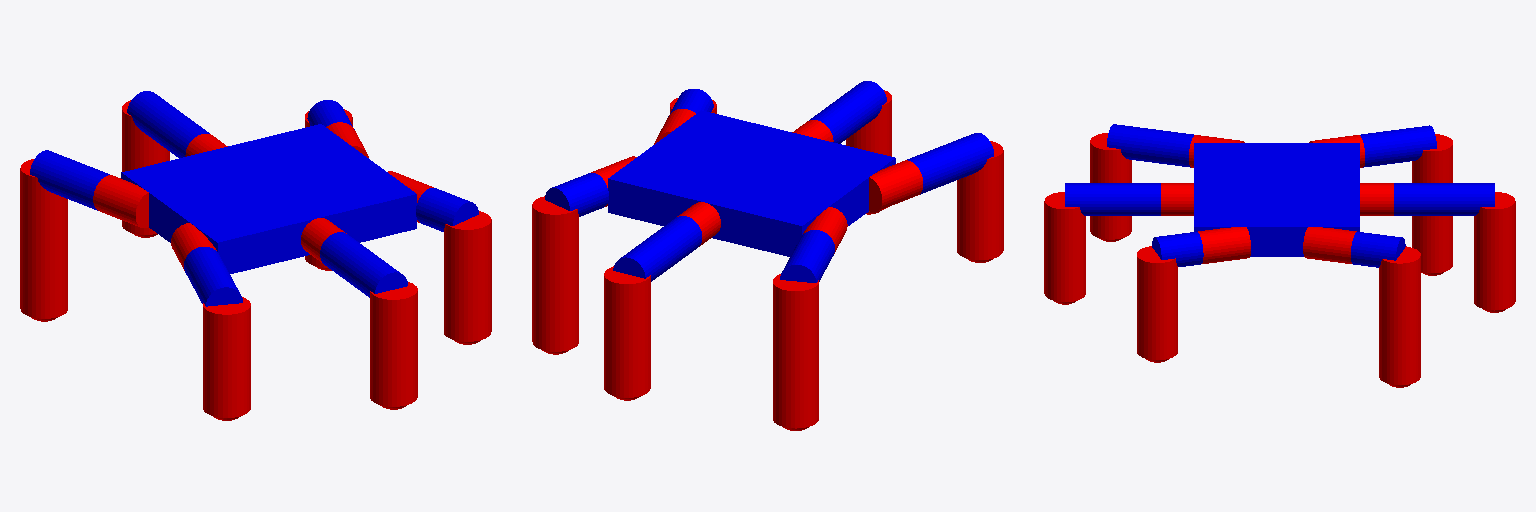
--- Render facts (derived) ---
The picture shows the robot from 3 angles, left to right: view 1: azimuth 30°, elevation 25°; view 2: azimuth 150°, elevation 25°; view 3: azimuth 270°, elevation 25°; orthographic projection.
Robot: pexod — 19 links, 18 joints (18 revolute); root link base_link; default pose: every joint at zero.
Links seen in each view (by area): view 1: base_link, leg_0_3, leg_3_3, leg_4_3, leg_5_3, leg_4_2, leg_1_2, leg_0_2, leg_5_2, leg_0_1, leg_1_3, leg_3_2 (+5 smaller); view 2: base_link, leg_2_3, leg_0_3, leg_1_3, leg_5_3, leg_1_2, leg_5_2, leg_4_2, leg_5_1, leg_0_2, leg_2_2, leg_4_3 (+3 smaller); view 3: base_link, leg_2_3, leg_1_3, leg_3_3, leg_4_3, leg_0_3, leg_1_2, leg_4_2, leg_5_2, leg_5_3, leg_0_2, leg_2_1 (+5 smaller).
Boxes of the visible links, x1,y1,x2,y2 form: base_link: (121,124,416,273); leg_0_3: (20,159,67,321); leg_3_3: (444,211,491,344); leg_4_3: (370,282,417,409); leg_5_3: (203,297,250,420); leg_4_2: (320,232,407,297); leg_1_2: (127,91,209,157); leg_0_2: (30,150,109,210); leg_5_2: (184,247,242,306); leg_0_1: (93,175,148,227); leg_1_3: (122,100,169,237); leg_3_2: (416,188,478,231); base_link: (608,110,895,256); leg_2_3: (532,196,578,354); leg_0_3: (773,274,818,430); leg_1_3: (604,266,650,400); leg_5_3: (957,141,1003,262); leg_1_2: (613,216,701,281); leg_5_2: (907,133,993,194); leg_4_2: (809,81,886,143); leg_5_1: (869,160,922,211); leg_0_2: (780,230,834,282); leg_2_2: (545,173,608,216); leg_4_3: (846,90,891,214); base_link: (1194,143,1359,256); leg_2_3: (1379,246,1420,387); leg_1_3: (1474,192,1515,312); leg_3_3: (1137,246,1177,362); leg_4_3: (1044,192,1085,304); leg_0_3: (1412,134,1452,275); leg_1_2: (1394,183,1494,215); leg_4_2: (1065,183,1160,215); leg_5_2: (1107,124,1193,167); leg_5_3: (1090,133,1131,241); leg_0_2: (1360,125,1436,167); leg_2_1: (1303,227,1356,263).
Size in the robot's own frame: 0.3725 by 0.5662 by 0.1942 metres.
Geometry: primitives only (box / cylinder / sphere), no mesh files.

The robot description file, URDF, robot "pexod":
<?xml version="1.0" ?>
<!-- =================================================================================== -->
<!-- |    This document was autogenerated by xacro from pexod.xacro                    | -->
<!-- |    EDITING THIS FILE BY HAND IS NOT RECOMMENDED                                 | -->
<!-- =================================================================================== -->
<robot name="pexod" xmlns:xacro="http://www.ros.org/wiki/xacro">
  <!-- <xacro:include filename="$(find pexod_description)/urdf/pexod_control.xacro" /> -->
  <!-- MATERIALS -->
  <material name="Blue">
    <color rgba="0 0 1 1"/>
  </material>
  <material name="Red">
    <color rgba="1 0 0 1"/>
  </material>
  <material name="Green">
    <color rgba="0 1 0 1"/>
  </material>
  <material name="Yellow">
    <color rgba="1 1 0 1"/>
  </material>
  <material name="LightGrey">
    <color rgba="0.6 0.6 0.6 1.0"/>
  </material>
  <!-- END OF MATERIALS -->
  <!-- XACRO MACROS FOR VISUALS AND COLLISIONS -->
  <!-- END OF XACRO MACROS -->
  <!-- TORSO -->
  <link name="base_link">
    <visual>
      <origin rpy="0 0 0" xyz="0 0 0"/>
      <geometry>
        <box size="0.24 0.2 0.04"/>
      </geometry>
      <material name="Blue"/>
    </visual>
    <collision>
      <origin rpy="0 0 0" xyz="0 0 0"/>
      <geometry>
        <box size="0.24 0.2 0.04"/>
      </geometry>
    </collision>
    <inertial>
      <!-- CENTER OF MASS -->
      <origin rpy="0 0 0" xyz="0 0 0"/>
      <mass value="1.031"/>
      <!-- box inertia: 1/12*m(y^2+z^2), ... -->
      <inertia ixx="0.00357413333333" ixy="0" ixz="0" iyy="0.00508626666667" iyz="0" izz="0.00838546666667"/>
    </inertial>
  </link>
  <!-- XACRO MACRO FOR LEGS LINKS/JOINTS -->
  <!-- END OF LEG LINKS/JOINTS -->
  <joint name="body_leg_2" type="revolute">
    <parent link="base_link"/>
    <child link="leg_2_1"/>
    <limit effort="30.0" lower="-1.57079632679" upper="1.57079632679" velocity="7.0"/>
    <origin rpy="0 0 -0.3" xyz="0.11 0.04 0"/>
    <!-- <xacro:if value="${index == 5 or index == 4 or index == 3}">
                <axis xyz="0 0 1"/>
            </xacro:if>
            <xacro:if value="${index == 2 or index == 1 or index == 0}"> -->
    <axis xyz="0 0 1"/>
    <!-- </xacro:if> -->
    <dynamics damping="0.0"/>
  </joint>
  <link name="leg_2_1">
    <visual>
      <origin rpy="1.57079632679 0 0" xyz="0.01 0.03 0"/>
      <geometry>
        <cylinder length="0.06" radius="0.02"/>
      </geometry>
      <material name="Red"/>
    </visual>
    <collision>
      <origin rpy="1.57079632679 0 0" xyz="0.01 0.03 0"/>
      <geometry>
        <box size="0.02 0.02 0.06"/>
      </geometry>
    </collision>
    <inertial>
      <!-- CENTER OF MASS -->
      <origin rpy="1.57079632679 0 0" xyz="0.01 0.03 0"/>
      <mass value="0.02"/>
      <!-- box inertia: 1/12*m(y^2+z^2), ... -->
      <inertia ixx="6.66666666667e-06" ixy="0" ixz="0" iyy="6.66666666667e-06" iyz="0" izz="1.33333333333e-06"/>
    </inertial>
  </link>
  <joint name="leg_2_1_2" type="revolute">
    <parent link="leg_2_1"/>
    <child link="leg_2_2"/>
    <limit effort="30.0" lower="-0.78539816339" upper="0.78539816339" velocity="7.0"/>
    <origin rpy="0 0 0" xyz="0 0.06 0"/>
    <axis xyz="1 0 0"/>
    <dynamics damping="0.0"/>
  </joint>
  <link name="leg_2_2">
    <visual>
      <origin rpy="1.57079632679 0 0" xyz="0.01 0.0283123854777 0"/>
      <geometry>
        <cylinder length="0.0566247709554" radius="0.02"/>
      </geometry>
      <material name="Blue"/>
    </visual>
    <collision>
      <origin rpy="1.57079632679 0 0" xyz="0.01 0.0283123854777 0"/>
      <geometry>
        <box size="0.02 0.02 0.0566247709554"/>
      </geometry>
    </collision>
    <inertial>
      <!-- CENTER OF MASS -->
      <origin rpy="1.57079632679 0 0" xyz="0.01 0.0283123854777 0"/>
      <mass value="0.184"/>
      <!-- box inertia: 1/12*m(y^2+z^2), ... -->
      <inertia ixx="5.52975918482e-05" ixy="0" ixz="0" iyy="5.52975918482e-05" iyz="0" izz="1.22666666667e-05"/>
    </inertial>
  </link>
  <joint name="leg_2_2_3" type="revolute">
    <parent link="leg_2_2"/>
    <child link="leg_2_3"/>
    <limit effort="30.0" lower="-0.78539816339" upper="0.78539816339" velocity="7.0"/>
    <origin rpy="-1.57079632679 0 0" xyz="0 0.0566247709554 0"/>
    <axis xyz="-1 0 0"/>
    <dynamics damping="0.0"/>
  </joint>
  <link name="leg_2_3">
    <visual>
      <origin rpy="1.57079632679 0 0" xyz="0.0125 0.080779940812 0"/>
      <geometry>
        <cylinder length="0.161559881624" radius="0.025"/>
      </geometry>
      <material name="Red"/>
    </visual>
    <visual>
      <origin rpy="1.57079632679 0 0" xyz="0.0125 0.149059881624 0"/>
      <geometry>
        <sphere radius="0.025"/>
      </geometry>
      <material name="Red"/>
    </visual>
    <collision>
      <origin rpy="1.57079632679 0 0" xyz="0.0125 0.080779940812 0"/>
      <geometry>
        <box size="0.025 0.025 0.161559881624"/>
      </geometry>
    </collision>
    <collision>
      <origin rpy="1.57079632679 0 0" xyz="0.0125 0.149059881624 0"/>
      <geometry>
        <sphere radius="0.025"/>
      </geometry>
      <material name="Red"/>
    </collision>
    <inertial>
      <!-- CENTER OF MASS -->
      <origin rpy="1.57079632679 0 0" xyz="0.0125 0.080779940812 0"/>
      <mass value="0.04"/>
      <!-- box inertia: 1/12*m(y^2+z^2), ... -->
      <inertia ixx="8.90886511679e-05" ixy="0" ixz="0" iyy="8.90886511679e-05" iyz="0" izz="4.16666666667e-06"/>
    </inertial>
  </link>
  <joint name="body_leg_3" type="revolute">
    <parent link="base_link"/>
    <child link="leg_3_1"/>
    <limit effort="30.0" lower="-1.57079632679" upper="1.57079632679" velocity="7.0"/>
    <origin rpy="0 0 0.3" xyz="0.11 -0.04 0"/>
    <!-- <xacro:if value="${index == 5 or index == 4 or index == 3}">
                <axis xyz="0 0 1"/>
            </xacro:if>
            <xacro:if value="${index == 2 or index == 1 or index == 0}"> -->
    <axis xyz="0 0 1"/>
    <!-- </xacro:if> -->
    <dynamics damping="0.0"/>
  </joint>
  <link name="leg_3_1">
    <visual>
      <origin rpy="1.57079632679 0 0" xyz="0.01 -0.03 0"/>
      <geometry>
        <cylinder length="0.06" radius="0.02"/>
      </geometry>
      <material name="Red"/>
    </visual>
    <collision>
      <origin rpy="1.57079632679 0 0" xyz="0.01 -0.03 0"/>
      <geometry>
        <box size="0.02 0.02 0.06"/>
      </geometry>
    </collision>
    <inertial>
      <!-- CENTER OF MASS -->
      <origin rpy="1.57079632679 0 0" xyz="0.01 -0.03 0"/>
      <mass value="0.02"/>
      <!-- box inertia: 1/12*m(y^2+z^2), ... -->
      <inertia ixx="6.66666666667e-06" ixy="0" ixz="0" iyy="6.66666666667e-06" iyz="0" izz="1.33333333333e-06"/>
    </inertial>
  </link>
  <joint name="leg_3_1_2" type="revolute">
    <parent link="leg_3_1"/>
    <child link="leg_3_2"/>
    <limit effort="30.0" lower="-0.78539816339" upper="0.78539816339" velocity="7.0"/>
    <origin rpy="0 0 0" xyz="0 -0.06 0"/>
    <axis xyz="-1 0 0"/>
    <dynamics damping="0.0"/>
  </joint>
  <link name="leg_3_2">
    <visual>
      <origin rpy="1.57079632679 0 0" xyz="0.01 -0.0262722416919 0"/>
      <geometry>
        <cylinder length="0.0525444833839" radius="0.02"/>
      </geometry>
      <material name="Blue"/>
    </visual>
    <collision>
      <origin rpy="1.57079632679 0 0" xyz="0.01 -0.0262722416919 0"/>
      <geometry>
        <box size="0.02 0.02 0.0525444833839"/>
      </geometry>
    </collision>
    <inertial>
      <!-- CENTER OF MASS -->
      <origin rpy="1.57079632679 0 0" xyz="0.01 -0.0262722416919 0"/>
      <mass value="0.184"/>
      <!-- box inertia: 1/12*m(y^2+z^2), ... -->
      <inertia ixx="4.84674819226e-05" ixy="0" ixz="0" iyy="4.84674819226e-05" iyz="0" izz="1.22666666667e-05"/>
    </inertial>
  </link>
  <joint name="leg_3_2_3" type="revolute">
    <parent link="leg_3_2"/>
    <child link="leg_3_3"/>
    <limit effort="30.0" lower="-0.78539816339" upper="0.78539816339" velocity="7.0"/>
    <origin rpy="1.57079632679 0 0" xyz="0 -0.0525444833839 0"/>
    <axis xyz="1 0 0"/>
    <dynamics damping="0.0"/>
  </joint>
  <link name="leg_3_3">
    <visual>
      <origin rpy="1.57079632679 0 0" xyz="0.0125 -0.0643762156295 0"/>
      <geometry>
        <cylinder length="0.128752431259" radius="0.025"/>
      </geometry>
      <material name="Red"/>
    </visual>
    <visual>
      <origin rpy="1.57079632679 0 0" xyz="0.0125 -0.116252431259 0"/>
      <geometry>
        <sphere radius="0.025"/>
      </geometry>
      <material name="Red"/>
    </visual>
    <collision>
      <origin rpy="1.57079632679 0 0" xyz="0.0125 -0.0643762156295 0"/>
      <geometry>
        <box size="0.025 0.025 0.128752431259"/>
      </geometry>
    </collision>
    <collision>
      <origin rpy="1.57079632679 0 0" xyz="0.0125 -0.116252431259 0"/>
      <geometry>
        <sphere radius="0.025"/>
      </geometry>
      <material name="Red"/>
    </collision>
    <inertial>
      <!-- CENTER OF MASS -->
      <origin rpy="1.57079632679 0 0" xyz="0.0125 -0.0643762156295 0"/>
      <mass value="0.04"/>
      <!-- box inertia: 1/12*m(y^2+z^2), ... -->
      <inertia ixx="5.7340628517e-05" ixy="0" ixz="0" iyy="5.7340628517e-05" iyz="0" izz="4.16666666667e-06"/>
    </inertial>
  </link>
  <joint name="body_leg_0" type="revolute">
    <parent link="base_link"/>
    <child link="leg_0_1"/>
    <limit effort="30.0" lower="-1.57079632679" upper="1.57079632679" velocity="7.0"/>
    <origin rpy="0 0 0.3" xyz="-0.13 0.04 0"/>
    <!-- <xacro:if value="${index == 5 or index == 4 or index == 3}">
                <axis xyz="0 0 1"/>
            </xacro:if>
            <xacro:if value="${index == 2 or index == 1 or index == 0}"> -->
    <axis xyz="0 0 1"/>
    <!-- </xacro:if> -->
    <dynamics damping="0.0"/>
  </joint>
  <link name="leg_0_1">
    <visual>
      <origin rpy="1.57079632679 0 0" xyz="0.01 0.03 0"/>
      <geometry>
        <cylinder length="0.06" radius="0.02"/>
      </geometry>
      <material name="Red"/>
    </visual>
    <collision>
      <origin rpy="1.57079632679 0 0" xyz="0.01 0.03 0"/>
      <geometry>
        <box size="0.02 0.02 0.06"/>
      </geometry>
    </collision>
    <inertial>
      <!-- CENTER OF MASS -->
      <origin rpy="1.57079632679 0 0" xyz="0.01 0.03 0"/>
      <mass value="0.02"/>
      <!-- box inertia: 1/12*m(y^2+z^2), ... -->
      <inertia ixx="6.66666666667e-06" ixy="0" ixz="0" iyy="6.66666666667e-06" iyz="0" izz="1.33333333333e-06"/>
    </inertial>
  </link>
  <joint name="leg_0_1_2" type="revolute">
    <parent link="leg_0_1"/>
    <child link="leg_0_2"/>
    <limit effort="30.0" lower="-0.78539816339" upper="0.78539816339" velocity="7.0"/>
    <origin rpy="0 0 0" xyz="0 0.06 0"/>
    <axis xyz="1 0 0"/>
    <dynamics damping="0.0"/>
  </joint>
  <link name="leg_0_2">
    <visual>
      <origin rpy="1.57079632679 0 0" xyz="0.01 0.0449865937313 0"/>
      <geometry>
        <cylinder length="0.0899731874627" radius="0.02"/>
      </geometry>
      <material name="Blue"/>
    </visual>
    <collision>
      <origin rpy="1.57079632679 0 0" xyz="0.01 0.0449865937313 0"/>
      <geometry>
        <box size="0.02 0.02 0.0899731874627"/>
      </geometry>
    </collision>
    <inertial>
      <!-- CENTER OF MASS -->
      <origin rpy="1.57079632679 0 0" xyz="0.01 0.0449865937313 0"/>
      <mass value="0.184"/>
      <!-- box inertia: 1/12*m(y^2+z^2), ... -->
      <inertia ixx="0.000130259341754" ixy="0" ixz="0" iyy="0.000130259341754" iyz="0" izz="1.22666666667e-05"/>
    </inertial>
  </link>
  <joint name="leg_0_2_3" type="revolute">
    <parent link="leg_0_2"/>
    <child link="leg_0_3"/>
    <limit effort="30.0" lower="-0.78539816339" upper="0.78539816339" velocity="7.0"/>
    <origin rpy="-1.57079632679 0 0" xyz="0 0.0899731874627 0"/>
    <axis xyz="-1 0 0"/>
    <dynamics damping="0.0"/>
  </joint>
  <link name="leg_0_3">
    <visual>
      <origin rpy="1.57079632679 0 0" xyz="0.0125 0.0808589177665 0"/>
      <geometry>
        <cylinder length="0.161717835533" radius="0.025"/>
      </geometry>
      <material name="Red"/>
    </visual>
    <visual>
      <origin rpy="1.57079632679 0 0" xyz="0.0125 0.149217835533 0"/>
      <geometry>
        <sphere radius="0.025"/>
      </geometry>
      <material name="Red"/>
    </visual>
    <collision>
      <origin rpy="1.57079632679 0 0" xyz="0.0125 0.0808589177665 0"/>
      <geometry>
        <box size="0.025 0.025 0.161717835533"/>
      </geometry>
    </collision>
    <collision>
      <origin rpy="1.57079632679 0 0" xyz="0.0125 0.149217835533 0"/>
      <geometry>
        <sphere radius="0.025"/>
      </geometry>
      <material name="Red"/>
    </collision>
    <inertial>
      <!-- CENTER OF MASS -->
      <origin rpy="1.57079632679 0 0" xyz="0.0125 0.0808589177665 0"/>
      <mass value="0.04"/>
      <!-- box inertia: 1/12*m(y^2+z^2), ... -->
      <inertia ixx="8.92588610983e-05" ixy="0" ixz="0" iyy="8.92588610983e-05" iyz="0" izz="4.16666666667e-06"/>
    </inertial>
  </link>
  <joint name="body_leg_5" type="revolute">
    <parent link="base_link"/>
    <child link="leg_5_1"/>
    <limit effort="30.0" lower="-1.57079632679" upper="1.57079632679" velocity="7.0"/>
    <origin rpy="0 0 -0.3" xyz="-0.13 -0.04 0"/>
    <!-- <xacro:if value="${index == 5 or index == 4 or index == 3}">
                <axis xyz="0 0 1"/>
            </xacro:if>
            <xacro:if value="${index == 2 or index == 1 or index == 0}"> -->
    <axis xyz="0 0 1"/>
    <!-- </xacro:if> -->
    <dynamics damping="0.0"/>
  </joint>
  <link name="leg_5_1">
    <visual>
      <origin rpy="1.57079632679 0 0" xyz="0.01 -0.03 0"/>
      <geometry>
        <cylinder length="0.06" radius="0.02"/>
      </geometry>
      <material name="Red"/>
    </visual>
    <collision>
      <origin rpy="1.57079632679 0 0" xyz="0.01 -0.03 0"/>
      <geometry>
        <box size="0.02 0.02 0.06"/>
      </geometry>
    </collision>
    <inertial>
      <!-- CENTER OF MASS -->
      <origin rpy="1.57079632679 0 0" xyz="0.01 -0.03 0"/>
      <mass value="0.02"/>
      <!-- box inertia: 1/12*m(y^2+z^2), ... -->
      <inertia ixx="6.66666666667e-06" ixy="0" ixz="0" iyy="6.66666666667e-06" iyz="0" izz="1.33333333333e-06"/>
    </inertial>
  </link>
  <joint name="leg_5_1_2" type="revolute">
    <parent link="leg_5_1"/>
    <child link="leg_5_2"/>
    <limit effort="30.0" lower="-0.78539816339" upper="0.78539816339" velocity="7.0"/>
    <origin rpy="0 0 0" xyz="0 -0.06 0"/>
    <axis xyz="-1 0 0"/>
    <dynamics damping="0.0"/>
  </joint>
  <link name="leg_5_2">
    <visual>
      <origin rpy="1.57079632679 0 0" xyz="0.01 -0.0516360511085 0"/>
      <geometry>
        <cylinder length="0.103272102217" radius="0.02"/>
      </geometry>
      <material name="Blue"/>
    </visual>
    <collision>
      <origin rpy="1.57079632679 0 0" xyz="0.01 -0.0516360511085 0"/>
      <geometry>
        <box size="0.02 0.02 0.103272102217"/>
      </geometry>
    </collision>
    <inertial>
      <!-- CENTER OF MASS -->
      <origin rpy="1.57079632679 0 0" xyz="0.01 -0.0516360511085 0"/>
      <mass value="0.184"/>
      <!-- box inertia: 1/12*m(y^2+z^2), ... -->
      <inertia ixx="0.000169665282144" ixy="0" ixz="0" iyy="0.000169665282144" iyz="0" izz="1.22666666667e-05"/>
    </inertial>
  </link>
  <joint name="leg_5_2_3" type="revolute">
    <parent link="leg_5_2"/>
    <child link="leg_5_3"/>
    <limit effort="30.0" lower="-0.78539816339" upper="0.78539816339" velocity="7.0"/>
    <origin rpy="1.57079632679 0 0" xyz="0 -0.103272102217 0"/>
    <axis xyz="1 0 0"/>
    <dynamics damping="0.0"/>
  </joint>
  <link name="leg_5_3">
    <visual>
      <origin rpy="1.57079632679 0 0" xyz="0.0125 -0.0593674116945 0"/>
      <geometry>
        <cylinder length="0.118734823389" radius="0.025"/>
      </geometry>
      <material name="Red"/>
    </visual>
    <visual>
      <origin rpy="1.57079632679 0 0" xyz="0.0125 -0.106234823389 0"/>
      <geometry>
        <sphere radius="0.025"/>
      </geometry>
      <material name="Red"/>
    </visual>
    <collision>
      <origin rpy="1.57079632679 0 0" xyz="0.0125 -0.0593674116945 0"/>
      <geometry>
        <box size="0.025 0.025 0.118734823389"/>
      </geometry>
    </collision>
    <collision>
      <origin rpy="1.57079632679 0 0" xyz="0.0125 -0.106234823389 0"/>
      <geometry>
        <sphere radius="0.025"/>
      </geometry>
      <material name="Red"/>
    </collision>
    <inertial>
      <!-- CENTER OF MASS -->
      <origin rpy="1.57079632679 0 0" xyz="0.0125 -0.0593674116945 0"/>
      <mass value="0.04"/>
      <!-- box inertia: 1/12*m(y^2+z^2), ... -->
      <inertia ixx="4.90765276174e-05" ixy="0" ixz="0" iyy="4.90765276174e-05" iyz="0" izz="4.16666666667e-06"/>
    </inertial>
  </link>
  <joint name="body_leg_1" type="revolute">
    <parent link="base_link"/>
    <child link="leg_1_1"/>
    <limit effort="30.0" lower="-1.57079632679" upper="1.57079632679" velocity="7.0"/>
    <origin rpy="0 0 0" xyz="-0.01 0.08 0"/>
    <!-- <xacro:if value="${index == 5 or index == 4 or index == 3}">
                <axis xyz="0 0 1"/>
            </xacro:if>
            <xacro:if value="${index == 2 or index == 1 or index == 0}"> -->
    <axis xyz="0 0 1"/>
    <!-- </xacro:if> -->
    <dynamics damping="0.0"/>
  </joint>
  <link name="leg_1_1">
    <visual>
      <origin rpy="1.57079632679 0 0" xyz="0.01 0.03 0"/>
      <geometry>
        <cylinder length="0.06" radius="0.02"/>
      </geometry>
      <material name="Red"/>
    </visual>
    <collision>
      <origin rpy="1.57079632679 0 0" xyz="0.01 0.03 0"/>
      <geometry>
        <box size="0.02 0.02 0.06"/>
      </geometry>
    </collision>
    <inertial>
      <!-- CENTER OF MASS -->
      <origin rpy="1.57079632679 0 0" xyz="0.01 0.03 0"/>
      <mass value="0.02"/>
      <!-- box inertia: 1/12*m(y^2+z^2), ... -->
      <inertia ixx="6.66666666667e-06" ixy="0" ixz="0" iyy="6.66666666667e-06" iyz="0" izz="1.33333333333e-06"/>
    </inertial>
  </link>
  <joint name="leg_1_1_2" type="revolute">
    <parent link="leg_1_1"/>
    <child link="leg_1_2"/>
    <limit effort="30.0" lower="-0.78539816339" upper="0.78539816339" velocity="7.0"/>
    <origin rpy="0 0 0" xyz="0 0.06 0"/>
    <axis xyz="1 0 0"/>
    <dynamics damping="0.0"/>
  </joint>
  <link name="leg_1_2">
    <visual>
      <origin rpy="1.57079632679 0 0" xyz="0.01 0.060743394797 0"/>
      <geometry>
        <cylinder length="0.121486789594" radius="0.02"/>
      </geometry>
      <material name="Blue"/>
    </visual>
    <collision>
      <origin rpy="1.57079632679 0 0" xyz="0.01 0.060743394797 0"/>
      <geometry>
        <box size="0.02 0.02 0.121486789594"/>
      </geometry>
    </collision>
    <inertial>
      <!-- CENTER OF MASS -->
      <origin rpy="1.57079632679 0 0" xyz="0.01 0.060743394797 0"/>
      <mass value="0.184"/>
      <!-- box inertia: 1/12*m(y^2+z^2), ... -->
      <inertia ixx="0.000232438614036" ixy="0" ixz="0" iyy="0.000232438614036" iyz="0" izz="1.22666666667e-05"/>
    </inertial>
  </link>
  <joint name="leg_1_2_3" type="revolute">
    <parent link="leg_1_2"/>
    <child link="leg_1_3"/>
    <limit effort="30.0" lower="-0.78539816339" upper="0.78539816339" velocity="7.0"/>
    <origin rpy="-1.57079632679 0 0" xyz="0 0.121486789594 0"/>
    <axis xyz="-1 0 0"/>
    <dynamics damping="0.0"/>
  </joint>
  <link name="leg_1_3">
    <visual>
      <origin rpy="1.57079632679 0 0" xyz="0.0125 0.066982911884 0"/>
      <geometry>
        <cylinder length="0.133965823768" radius="0.025"/>
      </geometry>
      <material name="Red"/>
    </visual>
    <visual>
      <origin rpy="1.57079632679 0 0" xyz="0.0125 0.121465823768 0"/>
      <geometry>
        <sphere radius="0.025"/>
      </geometry>
      <material name="Red"/>
    </visual>
    <collision>
      <origin rpy="1.57079632679 0 0" xyz="0.0125 0.066982911884 0"/>
      <geometry>
        <box size="0.025 0.025 0.133965823768"/>
      </geometry>
    </collision>
    <collision>
      <origin rpy="1.57079632679 0 0" xyz="0.0125 0.121465823768 0"/>
      <geometry>
        <sphere radius="0.025"/>
      </geometry>
      <material name="Red"/>
    </collision>
    <inertial>
      <!-- CENTER OF MASS -->
      <origin rpy="1.57079632679 0 0" xyz="0.0125 0.066982911884 0"/>
      <mass value="0.04"/>
      <!-- box inertia: 1/12*m(y^2+z^2), ... -->
      <inertia ixx="6.19061397928e-05" ixy="0" ixz="0" iyy="6.19061397928e-05" iyz="0" izz="4.16666666667e-06"/>
    </inertial>
  </link>
  <joint name="body_leg_4" type="revolute">
    <parent link="base_link"/>
    <child link="leg_4_1"/>
    <limit effort="30.0" lower="-1.57079632679" upper="1.57079632679" velocity="7.0"/>
    <origin rpy="0 0 0" xyz="-0.01 -0.08 0"/>
    <!-- <xacro:if value="${index == 5 or index == 4 or index == 3}">
                <axis xyz="0 0 1"/>
            </xacro:if>
            <xacro:if value="${index == 2 or index == 1 or index == 0}"> -->
    <axis xyz="0 0 1"/>
    <!-- </xacro:if> -->
    <dynamics damping="0.0"/>
  </joint>
  <link name="leg_4_1">
    <visual>
      <origin rpy="1.57079632679 0 0" xyz="0.01 -0.03 0"/>
      <geometry>
        <cylinder length="0.06" radius="0.02"/>
      </geometry>
      <material name="Red"/>
    </visual>
    <collision>
      <origin rpy="1.57079632679 0 0" xyz="0.01 -0.03 0"/>
      <geometry>
        <box size="0.02 0.02 0.06"/>
      </geometry>
    </collision>
    <inertial>
      <!-- CENTER OF MASS -->
      <origin rpy="1.57079632679 0 0" xyz="0.01 -0.03 0"/>
      <mass value="0.02"/>
      <!-- box inertia: 1/12*m(y^2+z^2), ... -->
      <inertia ixx="6.66666666667e-06" ixy="0" ixz="0" iyy="6.66666666667e-06" iyz="0" izz="1.33333333333e-06"/>
    </inertial>
  </link>
  <joint name="leg_4_1_2" type="revolute">
    <parent link="leg_4_1"/>
    <child link="leg_4_2"/>
    <limit effort="30.0" lower="-0.78539816339" upper="0.78539816339" velocity="7.0"/>
    <origin rpy="0 0 0" xyz="0 -0.06 0"/>
    <axis xyz="-1 0 0"/>
    <dynamics damping="0.0"/>
  </joint>
  <link name="leg_4_2">
    <visual>
      <origin rpy="1.57079632679 0 0" xyz="0.01 -0.0573319575905 0"/>
      <geometry>
        <cylinder length="0.114663915181" radius="0.02"/>
      </geometry>
      <material name="Blue"/>
    </visual>
    <collision>
      <origin rpy="1.57079632679 0 0" xyz="0.01 -0.0573319575905 0"/>
      <geometry>
        <box size="0.02 0.02 0.114663915181"/>
      </geometry>
    </collision>
    <inertial>
      <!-- CENTER OF MASS -->
      <origin rpy="1.57079632679 0 0" xyz="0.01 -0.0573319575905 0"/>
      <mass value="0.184"/>
      <!-- box inertia: 1/12*m(y^2+z^2), ... -->
      <inertia ixx="0.000207733139484" ixy="0" ixz="0" iyy="0.000207733139484" iyz="0" izz="1.22666666667e-05"/>
    </inertial>
  </link>
  <joint name="leg_4_2_3" type="revolute">
    <parent link="leg_4_2"/>
    <child link="leg_4_3"/>
    <limit effort="30.0" lower="-0.78539816339" upper="0.78539816339" velocity="7.0"/>
    <origin rpy="1.57079632679 0 0" xyz="0 -0.114663915181 0"/>
    <axis xyz="1 0 0"/>
    <dynamics damping="0.0"/>
  </joint>
  <link name="leg_4_3">
    <visual>
      <origin rpy="1.57079632679 0 0" xyz="0.0125 -0.061500696445 0"/>
      <geometry>
        <cylinder length="0.12300139289" radius="0.025"/>
      </geometry>
      <material name="Red"/>
    </visual>
    <visual>
      <origin rpy="1.57079632679 0 0" xyz="0.0125 -0.11050139289 0"/>
      <geometry>
        <sphere radius="0.025"/>
      </geometry>
      <material name="Red"/>
    </visual>
    <collision>
      <origin rpy="1.57079632679 0 0" xyz="0.0125 -0.061500696445 0"/>
      <geometry>
        <box size="0.025 0.025 0.12300139289"/>
      </geometry>
    </collision>
    <collision>
      <origin rpy="1.57079632679 0 0" xyz="0.0125 -0.11050139289 0"/>
      <geometry>
        <sphere radius="0.025"/>
      </geometry>
      <material name="Red"/>
    </collision>
    <inertial>
      <!-- CENTER OF MASS -->
      <origin rpy="1.57079632679 0 0" xyz="0.0125 -0.061500696445 0"/>
      <mass value="0.04"/>
      <!-- box inertia: 1/12*m(y^2+z^2), ... -->
      <inertia ixx="5.25144755096e-05" ixy="0" ixz="0" iyy="5.25144755096e-05" iyz="0" izz="4.16666666667e-06"/>
    </inertial>
  </link>
  <!-- END OF LEG LINKS/JOINTS -->
</robot>
